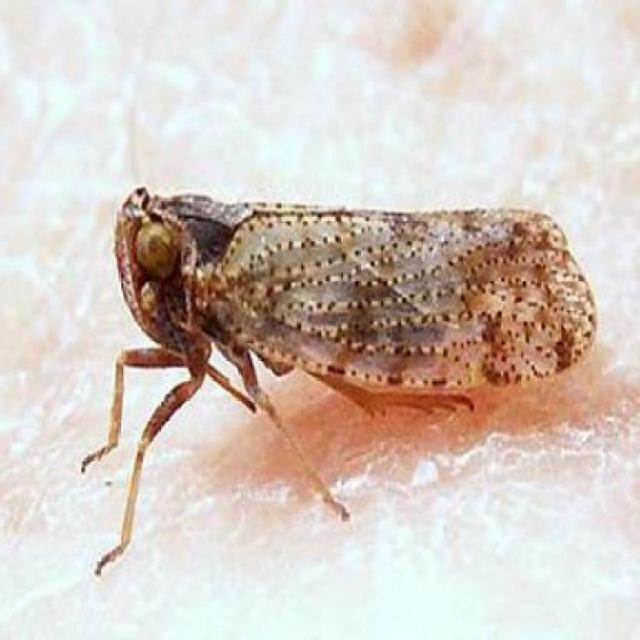brown-planthopper: (105, 170, 598, 455)
